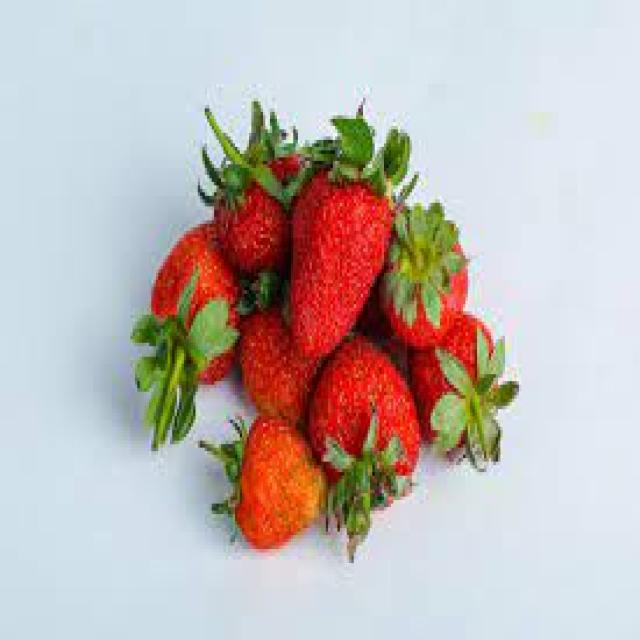strawberry: (283, 125, 392, 362), (136, 176, 239, 402), (306, 334, 420, 498), (205, 409, 338, 547), (378, 204, 470, 351), (409, 312, 502, 452)
